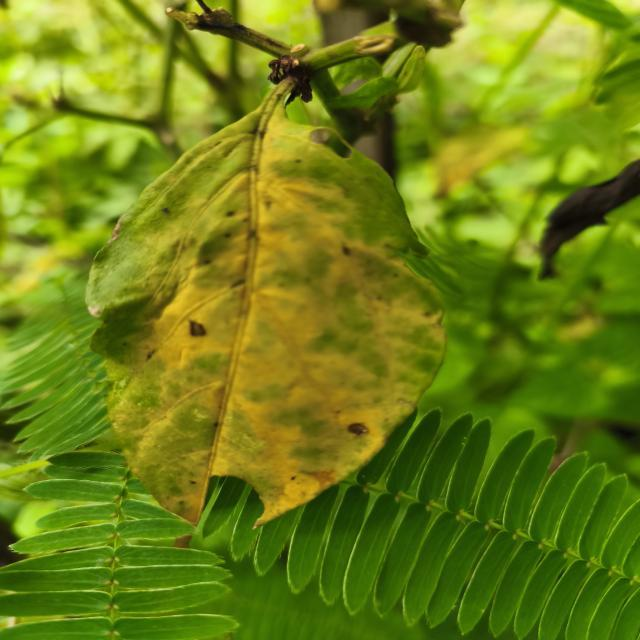Virus Kuning: (83, 106, 449, 530)
